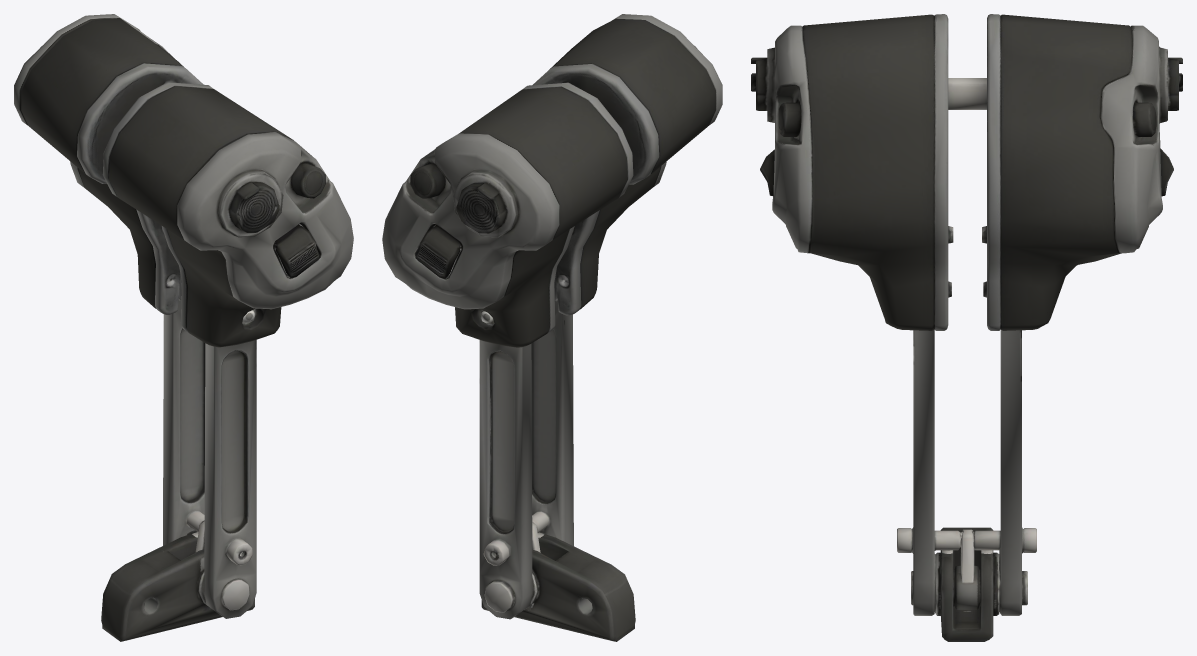
The model's file is throttle_tripo_remesh.glb.
The picture shows the model from 3 angles, left to right: view 1: azimuth 30°, elevation 25°; view 2: azimuth 150°, elevation 25°; view 3: azimuth 270°, elevation 25°; orthographic projection. The views are drawn at different scales.
Visible parts, largest first — view 1: tripo_node_d0016ea0-6019-473a-99fc-74c96; view 2: tripo_node_d0016ea0-6019-473a-99fc-74c96; view 3: tripo_node_d0016ea0-6019-473a-99fc-74c96.
Boxes of the visible parts, x1,y1,x2,y2 form: tripo_node_d0016ea0-6019-473a-99fc-74c96: [14, 14, 353, 641]; tripo_node_d0016ea0-6019-473a-99fc-74c96: [382, 14, 722, 641]; tripo_node_d0016ea0-6019-473a-99fc-74c96: [751, 14, 1182, 641].
Size of the model in its own units: 0.3503 by 1 by 0.6771.
1 material, 1 textured.
